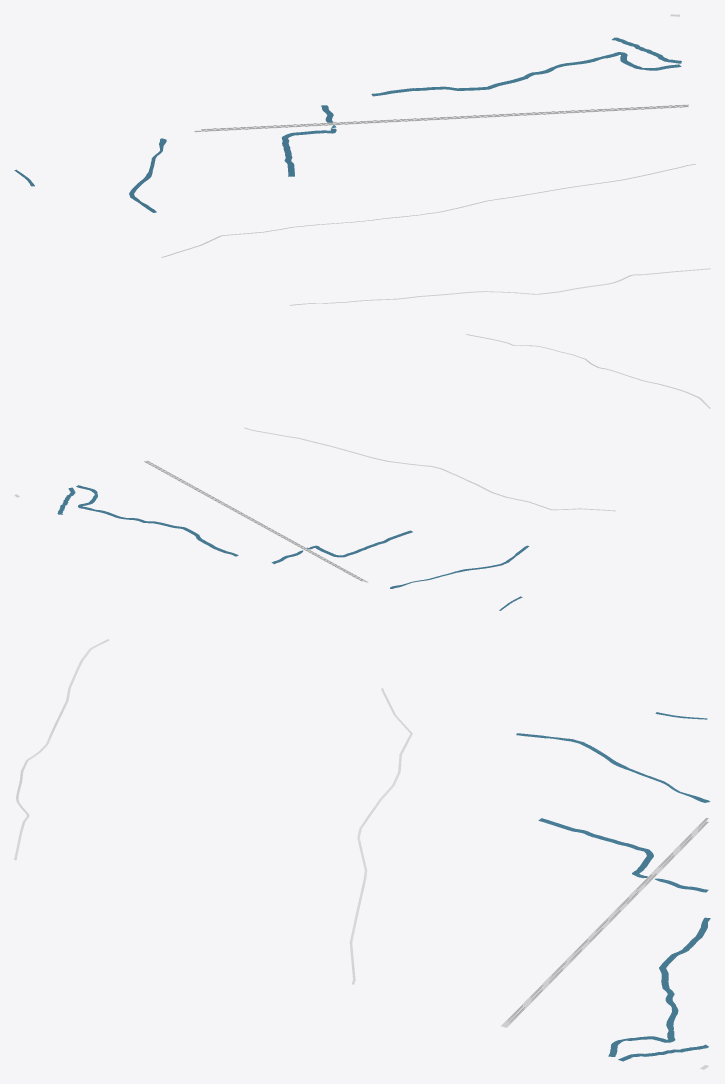
Rendered from objekty.glb.
3 renders of one model, top to bottom at view 1: azimuth 30°, elevation 25°; view 2: azimuth 150°, elevation 25°; view 3: azimuth 270°, elevation 25°, orthographic. The views are drawn at different scales.
Parts seen in each view (by area): view 1: Cesty_07_09, Voda_07_09, Kolajnice_07_09; view 2: Cesty_07_09, Voda_07_09; view 3: Cesty_07_09, Voda_07_09.
Boxes of the visible parts, x1,y1,x2,y2 form: Cesty_07_09: (161, 14, 710, 305); Voda_07_09: (14, 37, 681, 212); Kolajnice_07_09: (195, 104, 688, 131); Cesty_07_09: (14, 334, 710, 582); Voda_07_09: (57, 485, 529, 610); Cesty_07_09: (14, 639, 708, 1069); Voda_07_09: (516, 712, 710, 1061).
Size of the model in its own units: 981 by 125 by 828.
